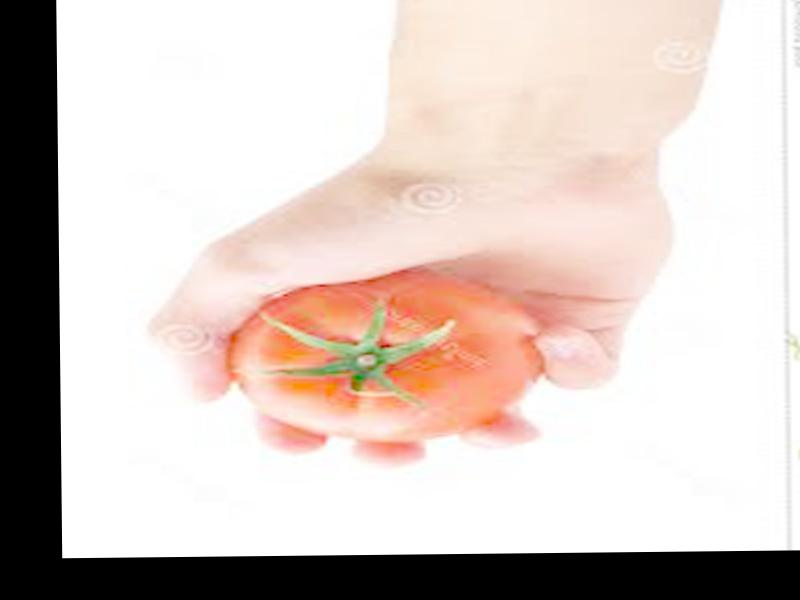Tomato: (233, 274, 546, 443)
